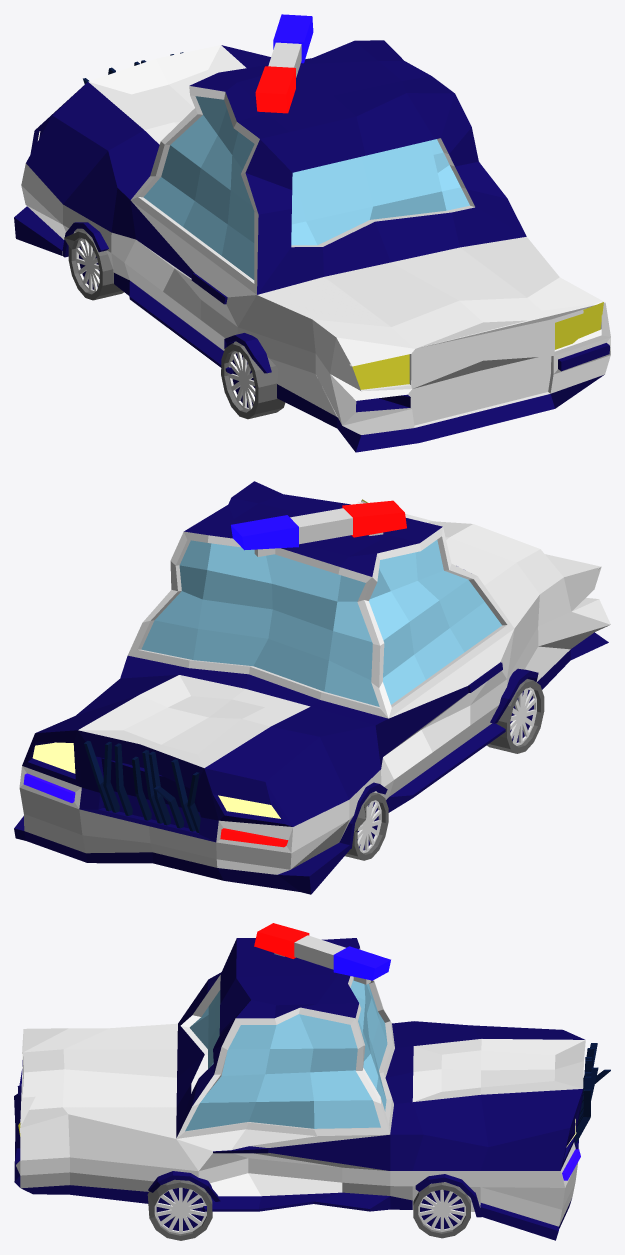
The model's file is Police_car_damaged.fbx.
The picture shows the model from 3 angles, top to bottom: view 1: azimuth 30°, elevation 25°; view 2: azimuth 150°, elevation 25°; view 3: azimuth 270°, elevation 25°; orthographic projection. The views are drawn at different scales.
Visible parts, largest first — view 1: headlight.003; view 2: headlight.003; view 3: headlight.003.
Boxes of the visible parts, x1,y1,x2,y2 form: headlight.003: [14, 14, 610, 452]; headlight.003: [14, 481, 610, 894]; headlight.003: [14, 923, 610, 1240].
Size of the model in its own units: 142 by 121 by 286.
